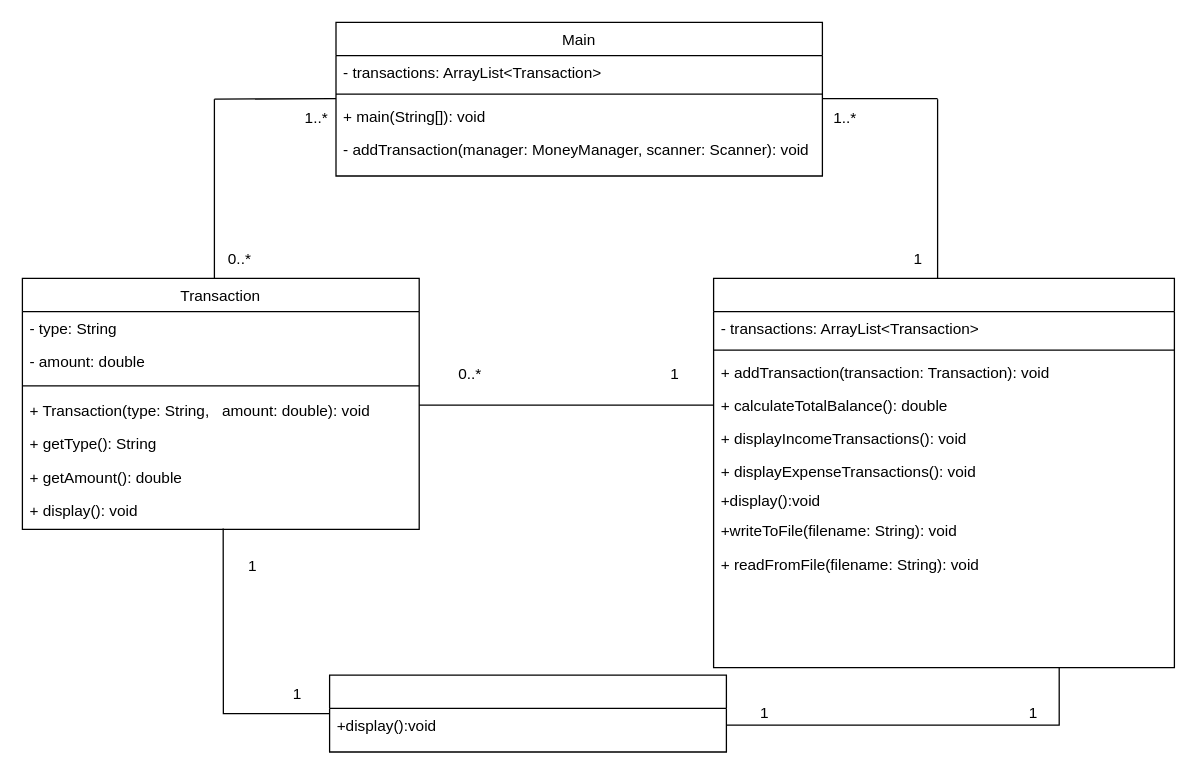
Some shapes in this 1197 by 774 pixel diagram are drawn without their labels. Each missing label, with the box of its shape:
Displayable: (328, 674, 726, 752)
MoneyManager: (712, 277, 1174, 668)
